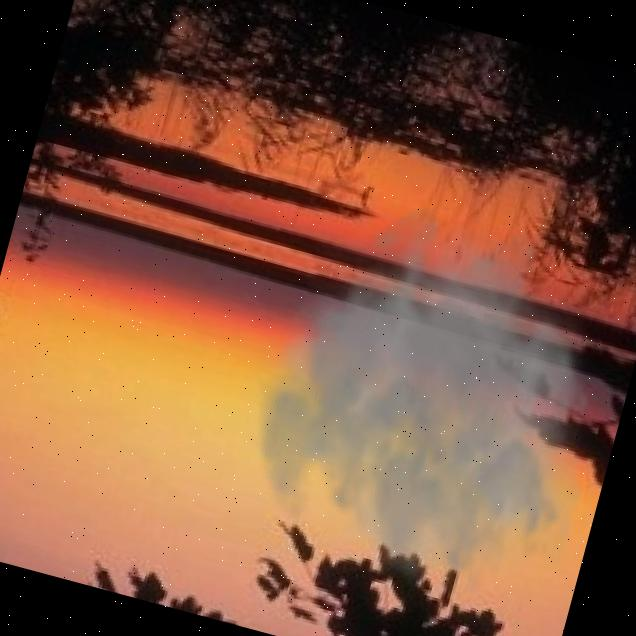smoke: (195, 166, 636, 627)
